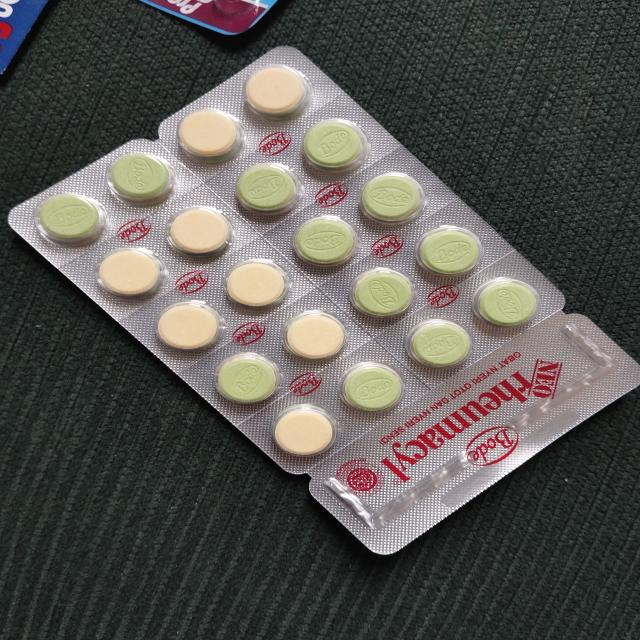B3: (4, 41, 639, 551)
